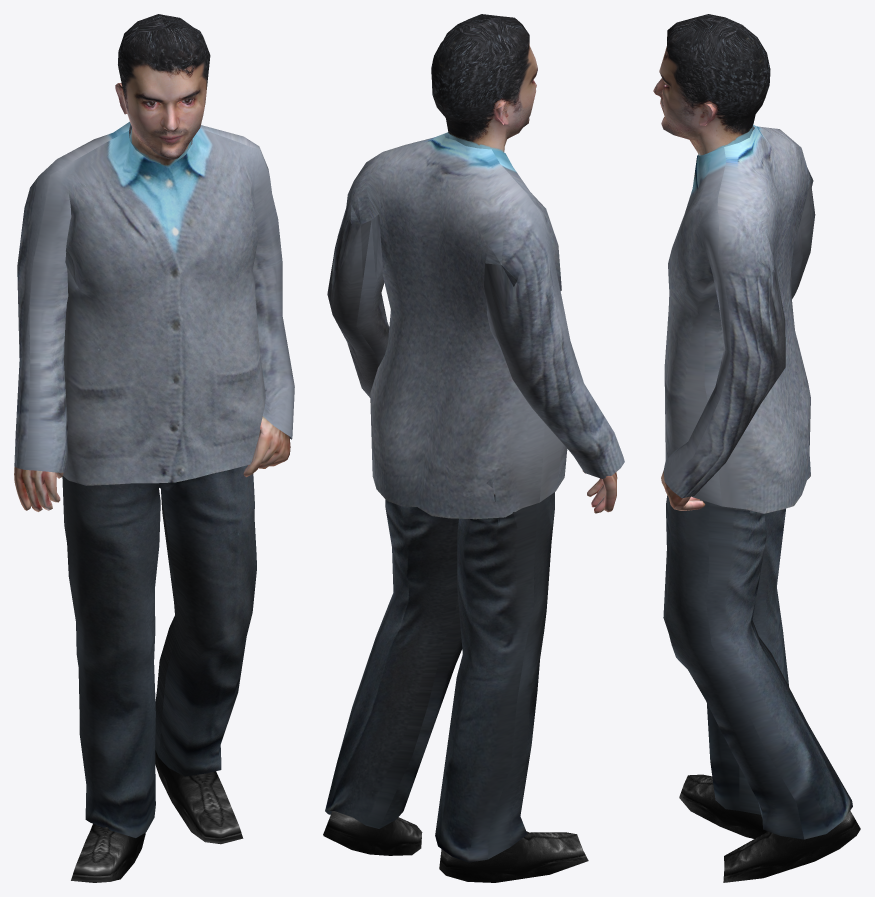
3 views of the same model, side by side, from view 1: azimuth 30°, elevation 25°; view 2: azimuth 150°, elevation 25°; view 3: azimuth 270°, elevation 25° (orthographic). The views are drawn at different scales.
Visible parts, largest first — view 1: CMan0005-Wa; view 2: CMan0005-Wa; view 3: CMan0005-Wa.
Boxes of the visible parts, x1,y1,x2,y2 form: CMan0005-Wa: [14, 14, 294, 882]; CMan0005-Wa: [323, 14, 624, 882]; CMan0005-Wa: [653, 14, 860, 882].
Bounding box in the file's own units: 1.55 × 4.55 × 1.04.
